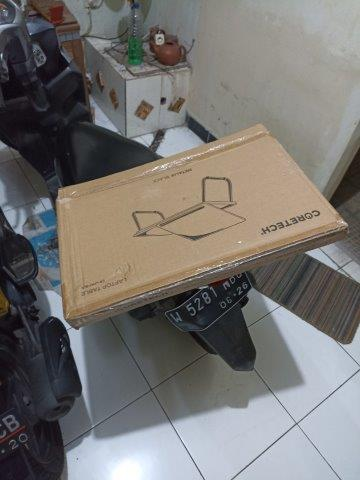kardus: (57, 127, 347, 324)
